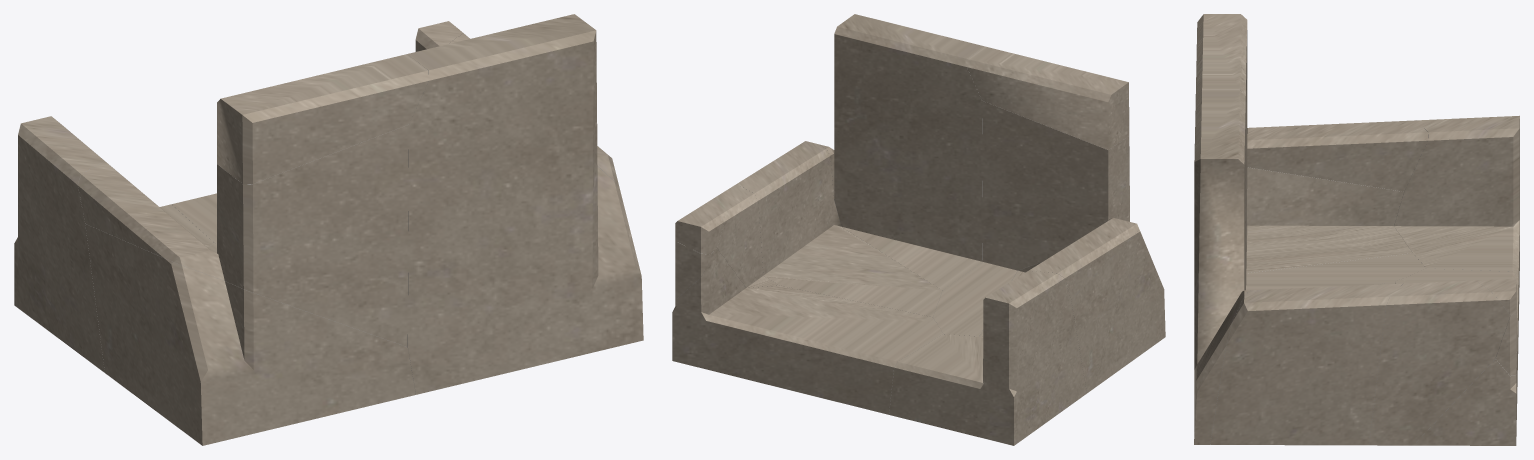
File: Sofa_Don_Fractured.fbx
The picture shows the model from 3 angles, left to right: view 1: azimuth 30°, elevation 25°; view 2: azimuth 150°, elevation 25°; view 3: azimuth 270°, elevation 25°; orthographic projection. The views are drawn at different scales.
Visible parts, largest first — view 1: polySurface52_cell.006, polySurface52_cell.002, polySurface52_cell, polySurface52_cell.008, polySurface52_cell.009, polySurface52_cell.005, polySurface52_cell.001; view 2: polySurface52_cell.006, polySurface52_cell, polySurface52_cell.005, polySurface52_cell.009, polySurface52_cell.004, polySurface52_cell.008, polySurface52_cell.002, polySurface52_cell.007, polySurface52_cell.001, polySurface52_cell.003; view 3: polySurface52_cell.004, polySurface52_cell.009, polySurface52_cell.007, polySurface52_cell.006, polySurface52_cell, polySurface52_cell.002, polySurface52_cell.005, polySurface52_cell.008, polySurface52_cell.003, polySurface52_cell.001.
Part boxes in pixels (x1=…): polySurface52_cell.006: x1=407, y1=14, x2=643, y2=394; polySurface52_cell.002: x1=85, y1=224, x2=415, y2=445; polySurface52_cell: x1=77, y1=124, x2=408, y2=346; polySurface52_cell.008: x1=217, y1=54, x2=428, y2=184; polySurface52_cell.009: x1=14, y1=116, x2=214, y2=372; polySurface52_cell.005: x1=172, y1=193, x2=216, y2=243; polySurface52_cell.001: x1=415, y1=21, x2=463, y2=51; polySurface52_cell.006: x1=820, y1=14, x2=983, y2=290; polySurface52_cell: x1=933, y1=100, x2=1138, y2=336; polySurface52_cell.005: x1=672, y1=248, x2=943, y2=414; polySurface52_cell.009: x1=889, y1=271, x2=1086, y2=445; polySurface52_cell.004: x1=737, y1=141, x2=942, y2=317; polySurface52_cell.008: x1=967, y1=46, x2=1129, y2=150; polySurface52_cell.002: x1=979, y1=217, x2=1165, y2=393; polySurface52_cell.007: x1=689, y1=184, x2=779, y2=287; polySurface52_cell.001: x1=675, y1=213, x2=724, y2=254; polySurface52_cell.003: x1=675, y1=238, x2=712, y2=298; polySurface52_cell.004: x1=1210, y1=282, x2=1402, y2=445; polySurface52_cell.009: x1=1394, y1=115, x2=1519, y2=320; polySurface52_cell.007: x1=1369, y1=280, x2=1510, y2=445; polySurface52_cell.006: x1=1194, y1=90, x2=1249, y2=444; polySurface52_cell: x1=1246, y1=79, x2=1428, y2=290; polySurface52_cell.002: x1=1246, y1=167, x2=1412, y2=273; polySurface52_cell.005: x1=1395, y1=268, x2=1518, y2=445; polySurface52_cell.008: x1=1195, y1=14, x2=1247, y2=113; polySurface52_cell.003: x1=1495, y1=310, x2=1516, y2=375; polySurface52_cell.001: x1=1476, y1=278, x2=1516, y2=315.
Bounding box in the file's own units: 771 × 530 × 584.
